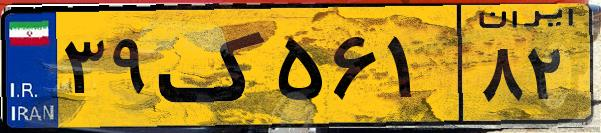1: (385, 28, 445, 110)
2: (525, 38, 570, 115)
3: (57, 26, 110, 100)
5: (270, 28, 330, 110)
6: (330, 28, 385, 110)
8: (475, 38, 525, 113)
9: (110, 28, 158, 98)
ک: (158, 12, 270, 120)
